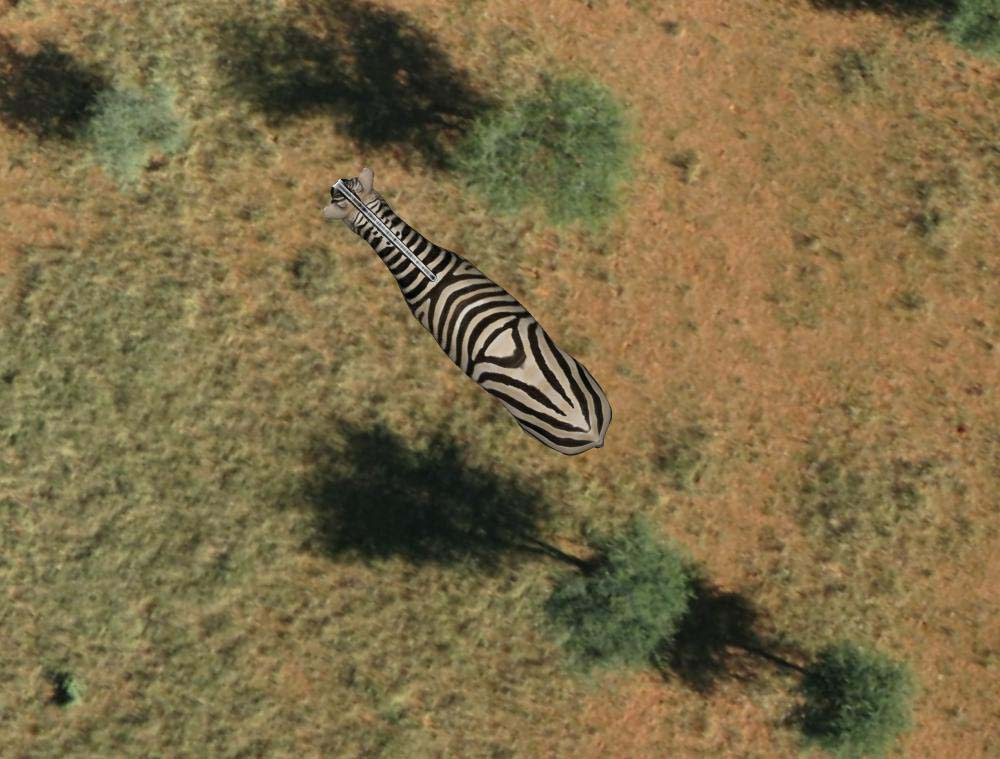zebra: (320, 161, 615, 458)
